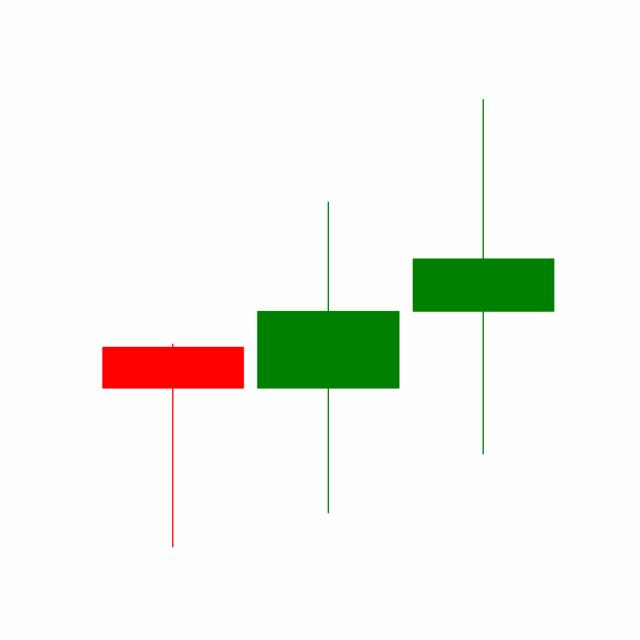Spinning Top: (249, 198, 406, 516)
